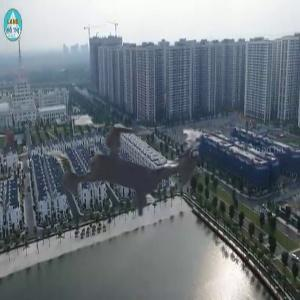drone: (5, 51, 242, 288)
